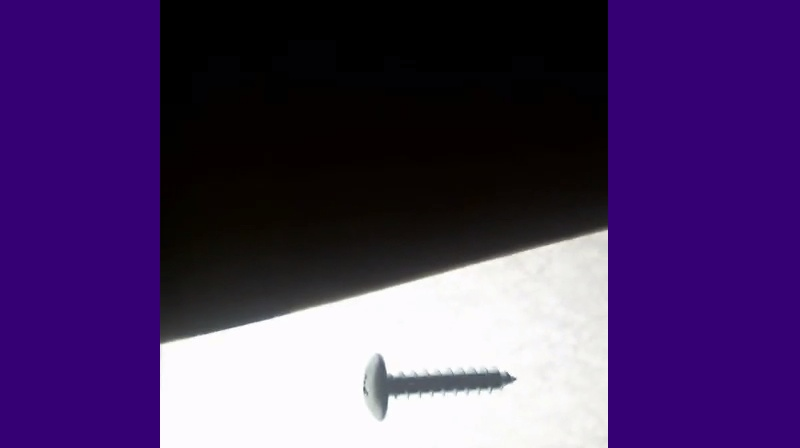S003: (356, 349, 518, 424)
